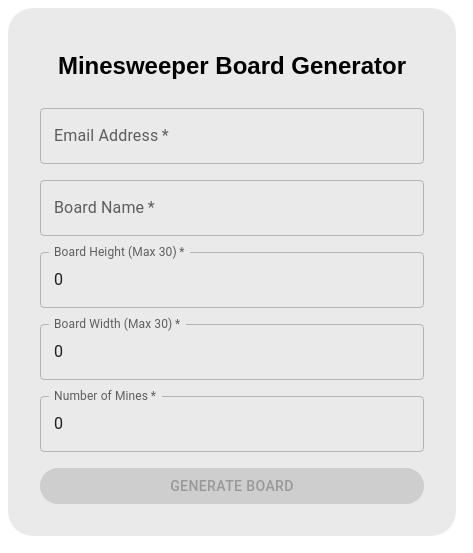
Test: BoardGeneratorForm › should check dimensions correctly
Type "Test@email.com" into the field labelled "Email Address *" at (232, 136), box [40, 108, 424, 164]
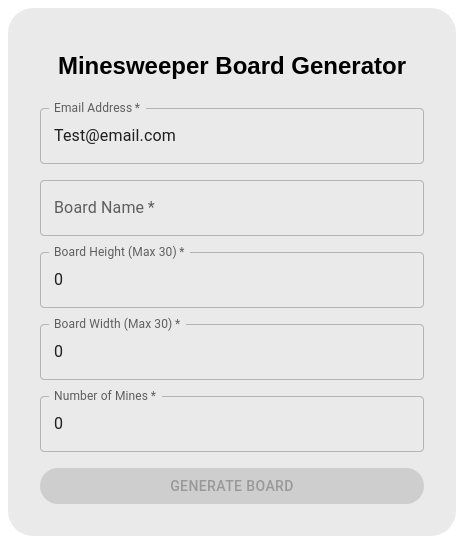
Type "Test Board" into the field labelled "Board Name *" at (232, 208), box [40, 180, 424, 236]
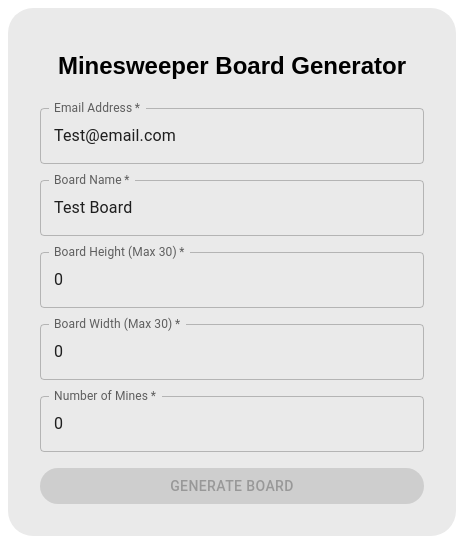
Replace the text in the number field labelled "Board Height (Max 30) *" with "5" at (232, 280), box [40, 252, 424, 308]
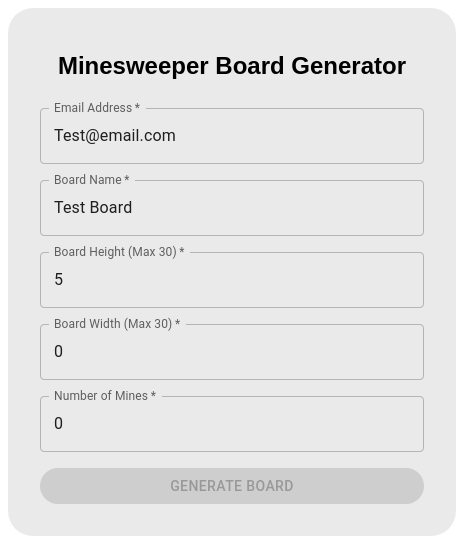
Replace the text in the number field labelled "Board Width (Max 30) *" with "5" at (232, 352), box [40, 324, 424, 380]
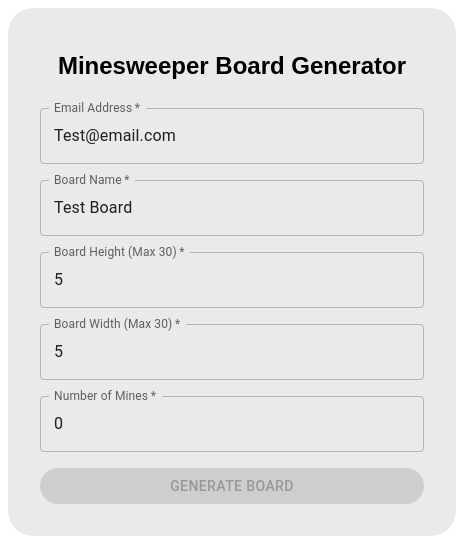
Replace the text in the number field labelled "Number of Mines *" with "25" at (232, 424), box [40, 396, 424, 452]
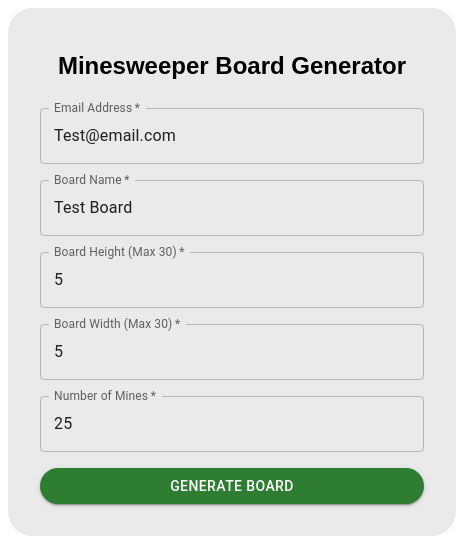
Result: the button "Generate Board" is enabled at [40, 468, 424, 504]
